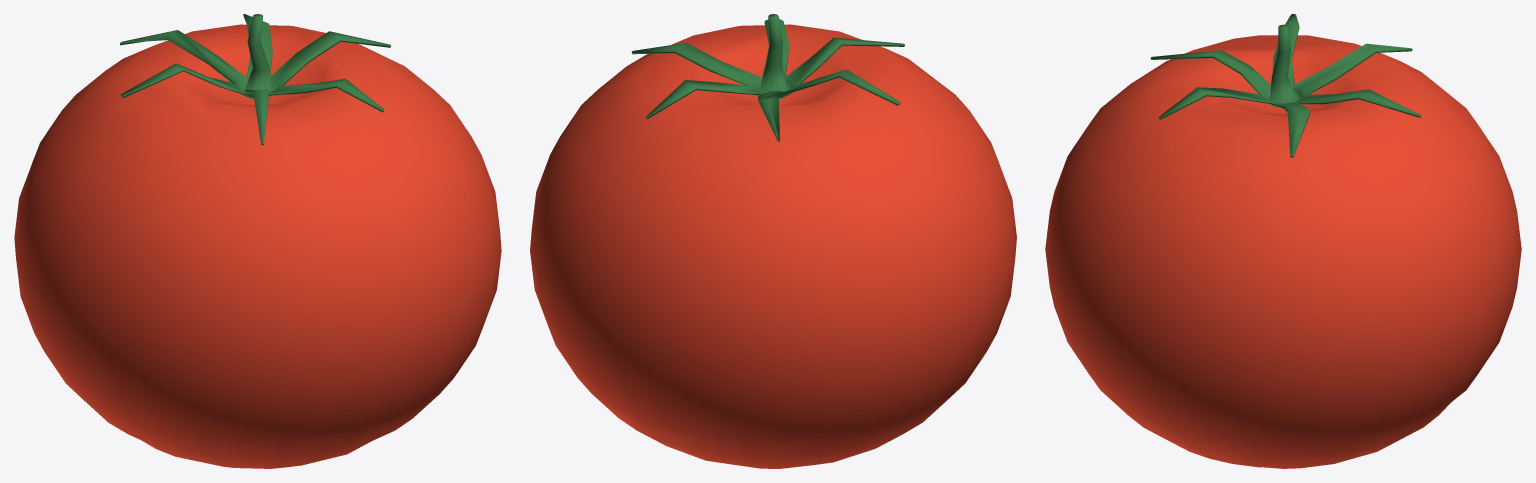
The picture shows the model from 3 angles, left to right: view 1: azimuth 30°, elevation 25°; view 2: azimuth 150°, elevation 25°; view 3: azimuth 270°, elevation 25°; orthographic projection. The views are drawn at different scales.
Parts seen in each view (by area): view 1: tomato; view 2: tomato; view 3: tomato.
Boxes of the visible parts, x1,y1,x2,y2 form: tomato: (14, 14, 501, 468); tomato: (530, 14, 1016, 468); tomato: (1045, 14, 1521, 468).
Size of the model in its own units: 93.31 by 91.2 by 93.31.
